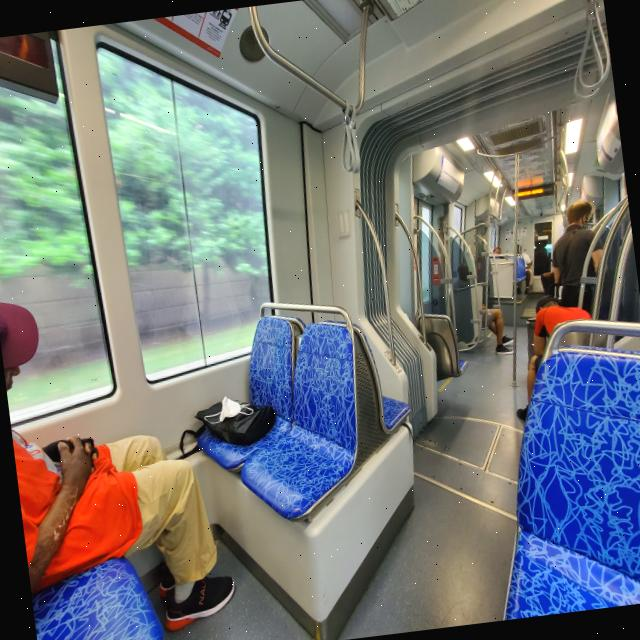empty-seat-frontal: (220, 320, 376, 528)
